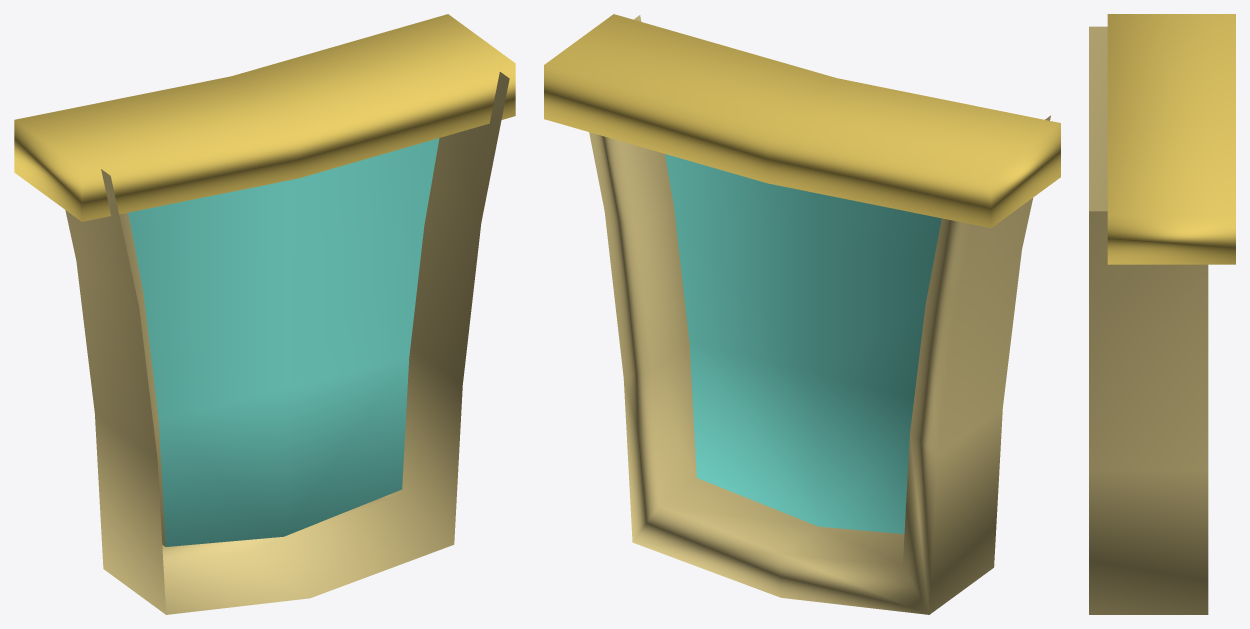
File: Building_C_3.fbx
3 renders of one model, left to right at view 1: azimuth 30°, elevation 25°; view 2: azimuth 150°, elevation 25°; view 3: azimuth 270°, elevation 25°, orthographic. The views are drawn at different scales.
Parts seen in each view (by area): view 1: Building_C_3; view 2: Building_C_3; view 3: Building_C_3.
Part boxes in pixels (x1,y1,x2,y2): Building_C_3: (14,14,515,614); Building_C_3: (544,14,1060,614); Building_C_3: (1089,14,1235,614).
Bounding box in the file's own units: 85.99 × 90 × 26.55.
